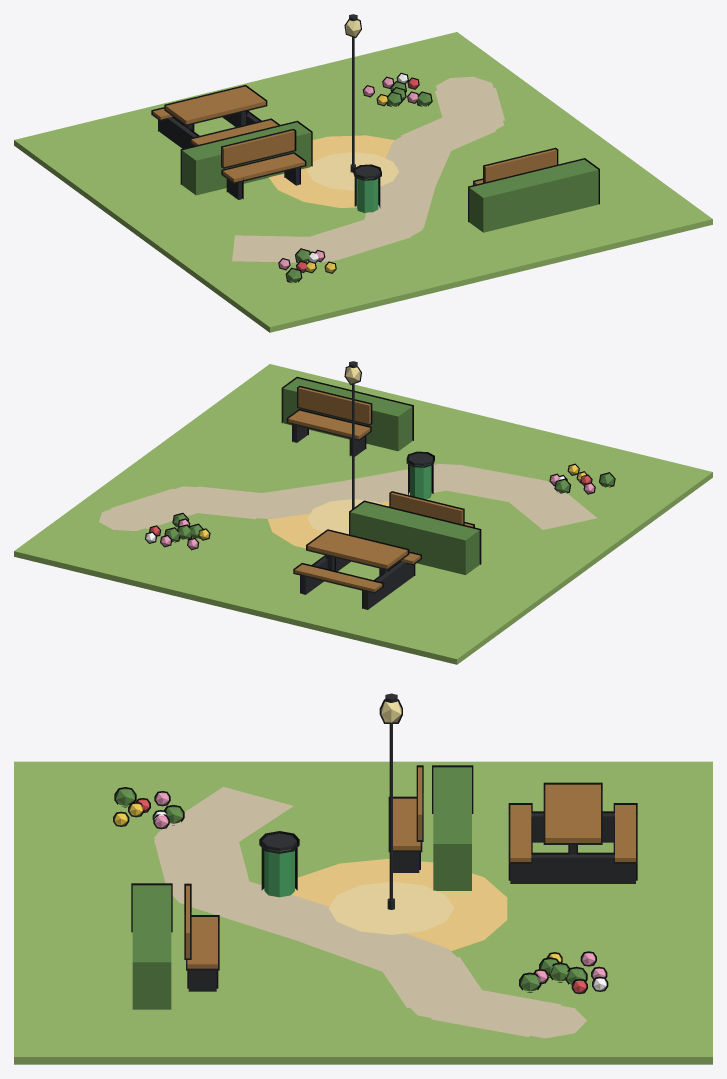
The model's file is Park_cim_gezinti.fbx.
3 renders of one model, top to bottom at view 1: azimuth 30°, elevation 25°; view 2: azimuth 150°, elevation 25°; view 3: azimuth 270°, elevation 25°, orthographic. The views are drawn at different scales.
Visible parts, largest first — view 1: Park_cim_gezinti; view 2: Park_cim_gezinti; view 3: Park_cim_gezinti.
Boxes of the visible parts, bbox=[...] form: Park_cim_gezinti: bbox=[14, 14, 712, 332]; Park_cim_gezinti: bbox=[14, 361, 712, 664]; Park_cim_gezinti: bbox=[14, 693, 712, 1064].
Bounding box in the file's own units: 10 × 3.48 × 10.
